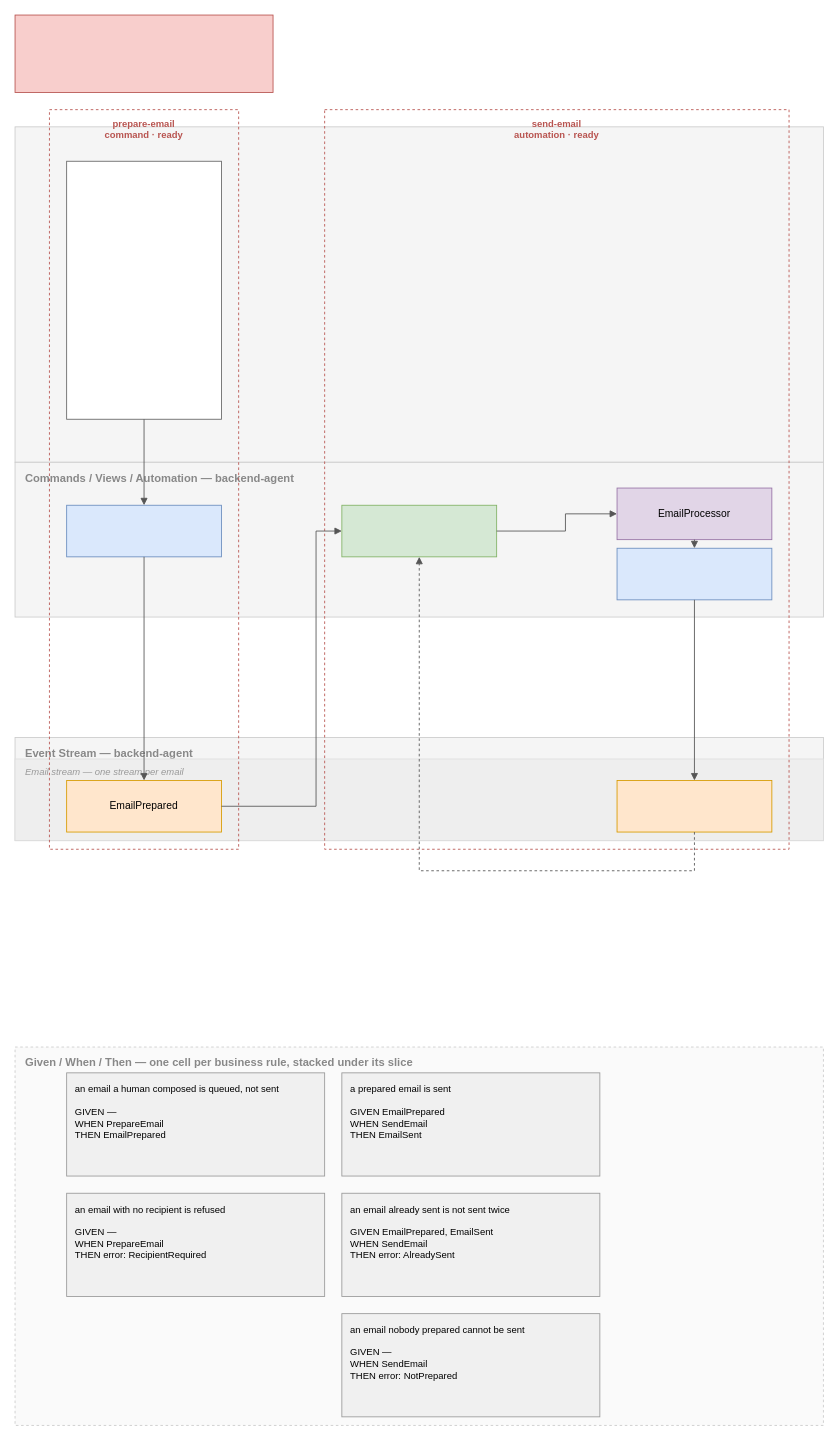
The diagram is 839 pixels wide and 1441 high, and some of its shapes have lost their labels. The shapes that lost their labels are listed below. From the top down, each one's centre as x and y in pixels, then its label:
At pixel 143 53: "Email outbox email-outbox · context".
At pixel 143 289: "Compose".
At pixel 418 294: "UI / Wireframes — frontend-agent".
At pixel 143 530: "PrepareEmail".
At pixel 419 530: "EmailsToSend".
At pixel 694 573: "SendEmail".
At pixel 694 806: "EmailSent".
